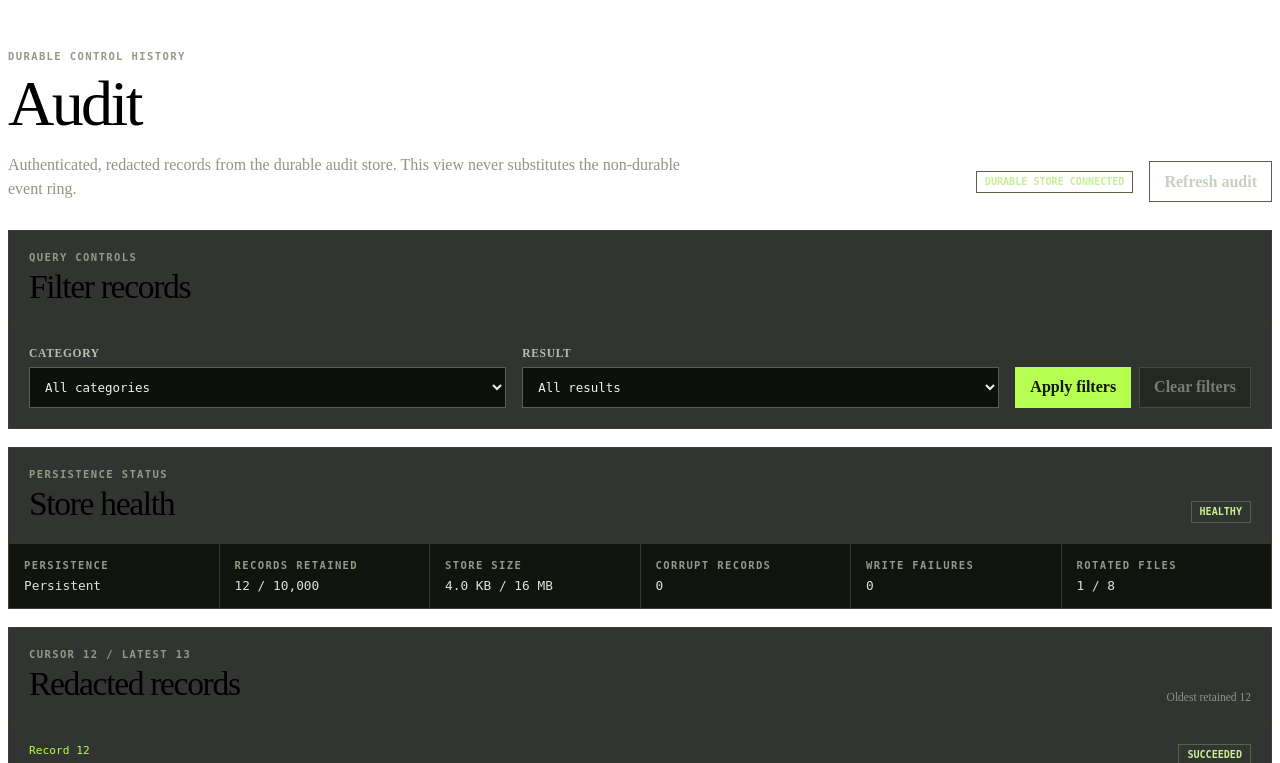
Test: durable audit workspace › loads fixed redacted fields, applies filters, and paginates by cursor
Check: the element with class "status-panel" shows "Persistent", box [24, 578, 101, 593]
Select "Control" in the dropdown with id "audit-category" at (268, 387), box [29, 367, 506, 408]
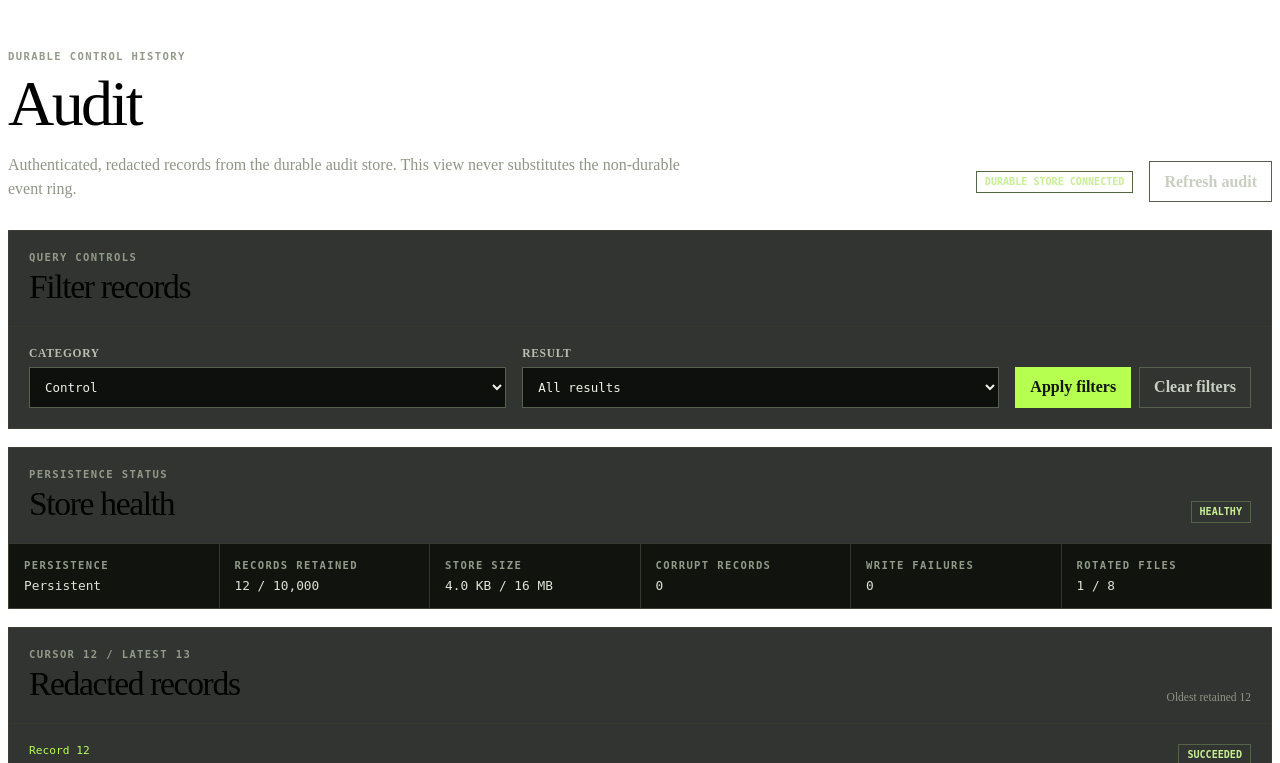
Select "Succeeded" in the dropdown with id "audit-result" at (761, 387), box [522, 367, 999, 408]
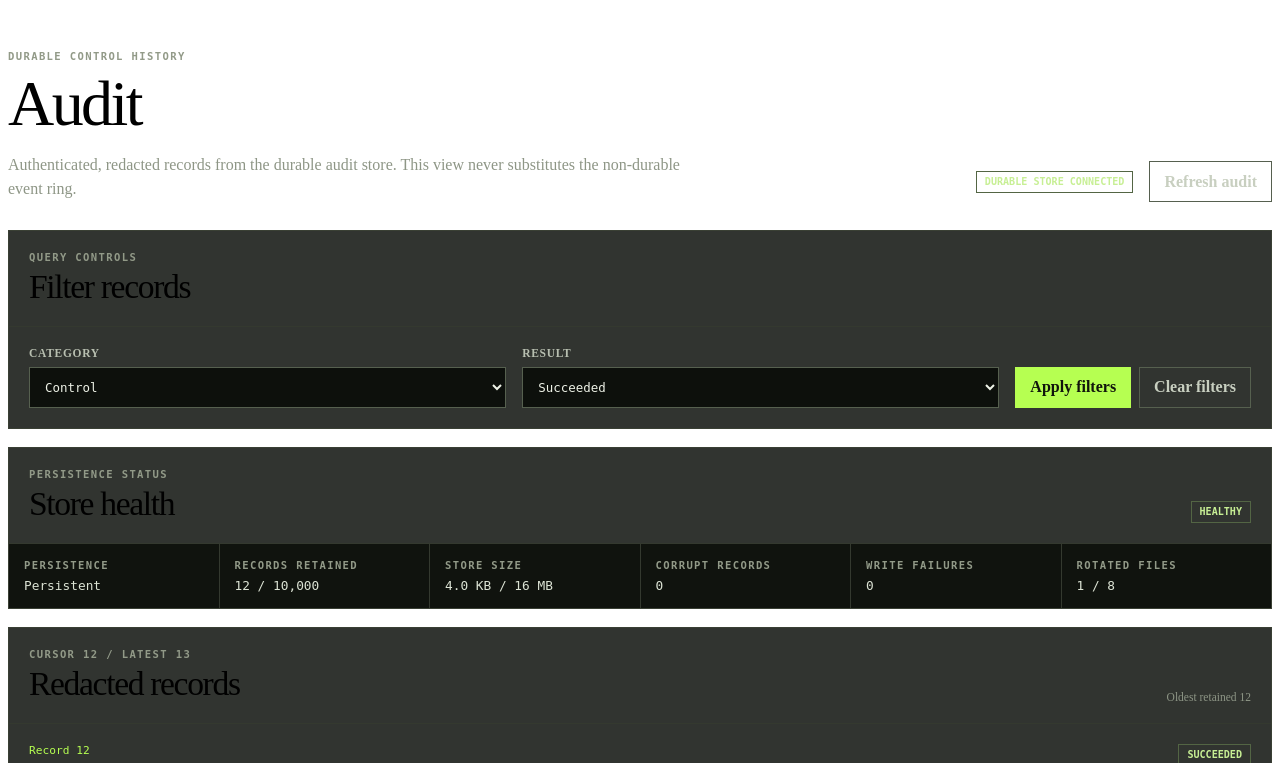
Submit the form with class "audit-filters", box [9, 327, 1271, 428]
(page scrolled)
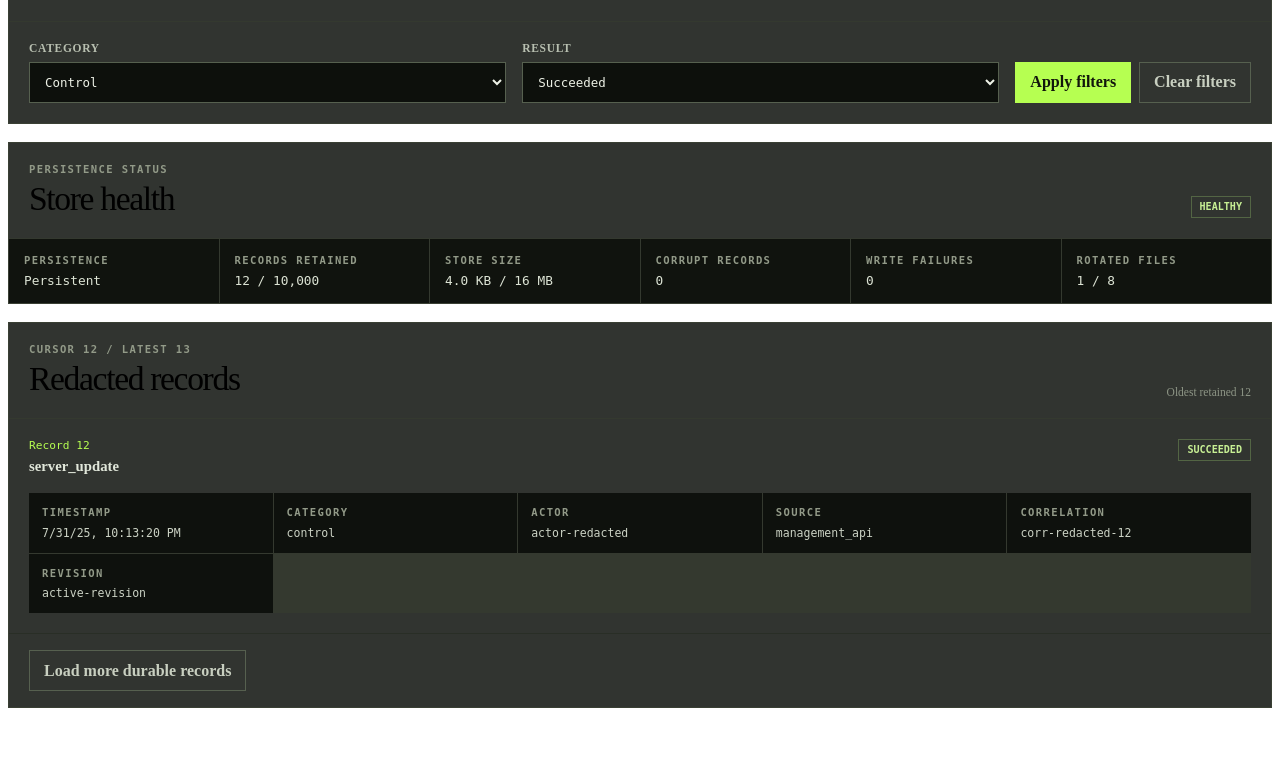
Click the button "Load more durable records" at (138, 671), box [29, 650, 246, 691]
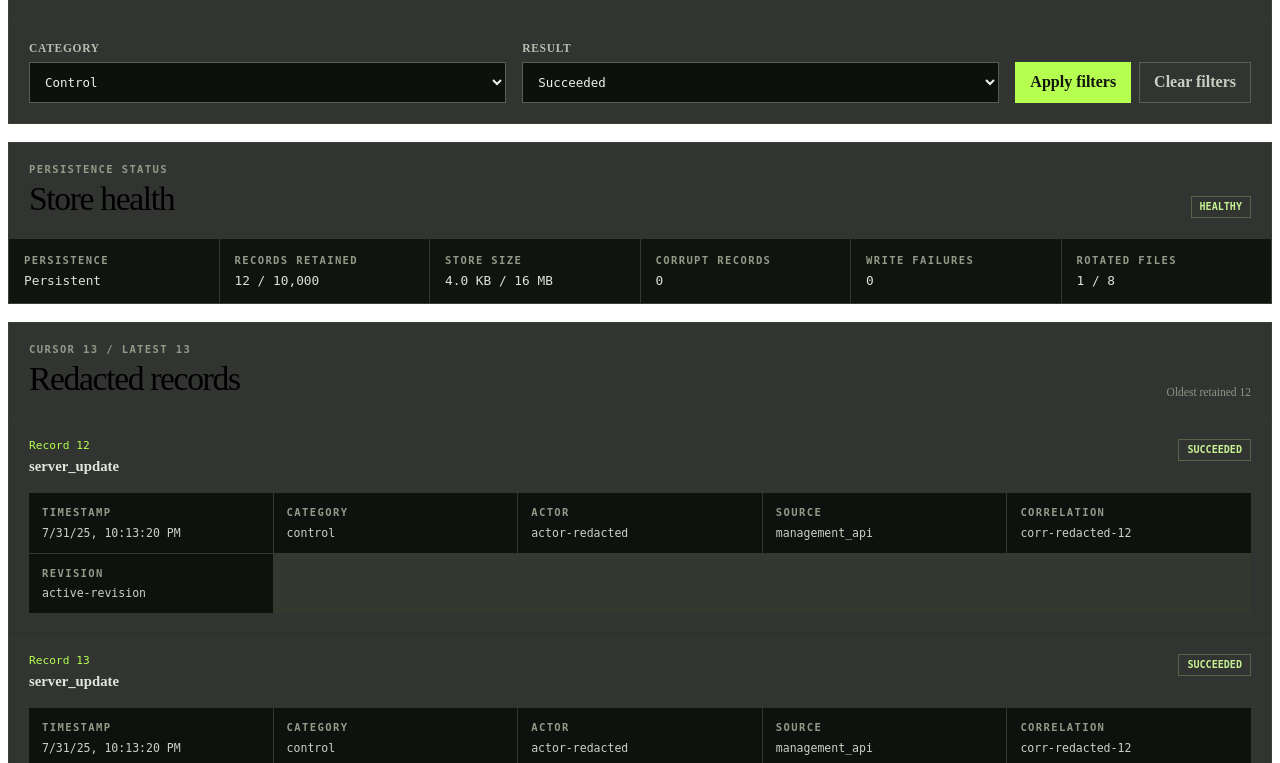
Check: the text "Record 13" is shown, box [29, 654, 90, 667]
